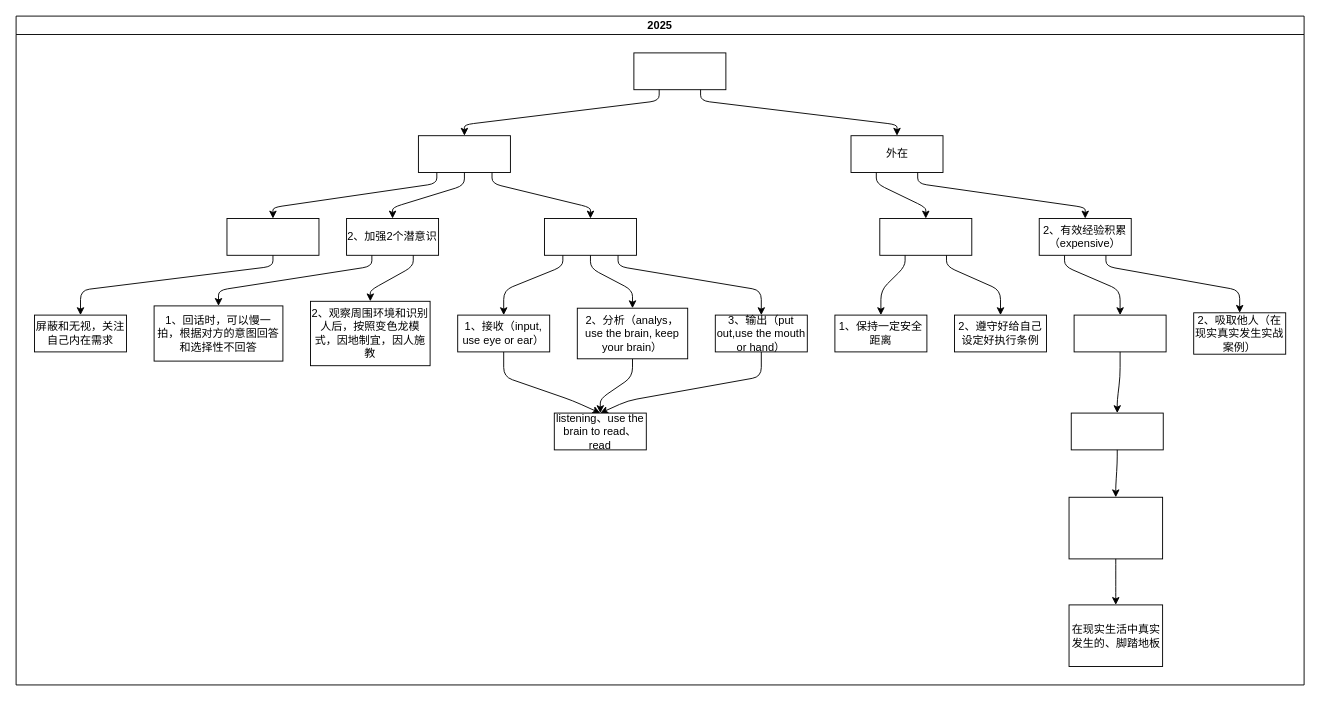
Some shapes in this 1320 by 701 pixel diagram are drawn without their labels. Here are the shapes that lost their labels. From the top down, the centre of each, then its label:
the point at 679,71: 2个建设
the point at 463,153: 内在
the point at 272,236: 1、心理素质加强
the point at 590,236: 3、3个基能保养和加强
the point at 925,236: 1、build the red lines
the point at 1119,333: 1、自己
the point at 1116,431: 1、自己在生活落地执行事情
the point at 1115,527: 打了一场官司，表现良好，验证了我策列可以执行性、正向性
